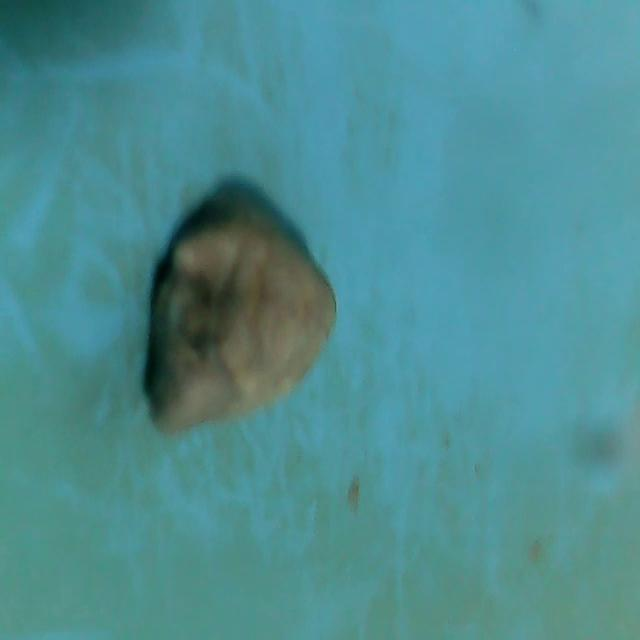rock: (145, 200, 341, 439)
